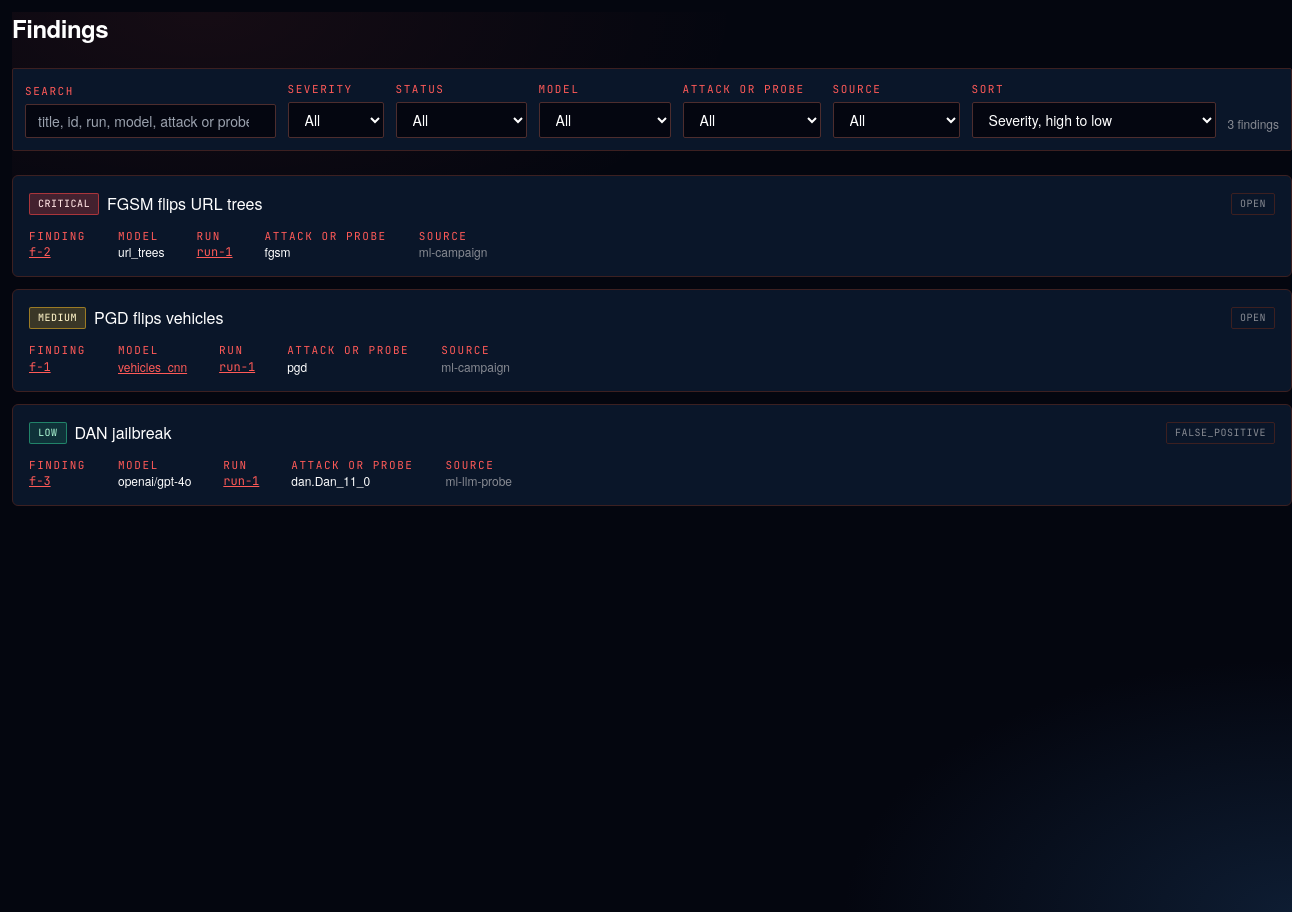
Test: FindingsPage › orders by severity by default and filters by status, model, attack and text
The image size is (1292, 912).
Expected: the text with test id "findings-count" reads "3 findings", [1228, 116, 1279, 132]
Select "false_positive" in the dropdown labelled "status": (461, 120) [396, 102, 527, 138]
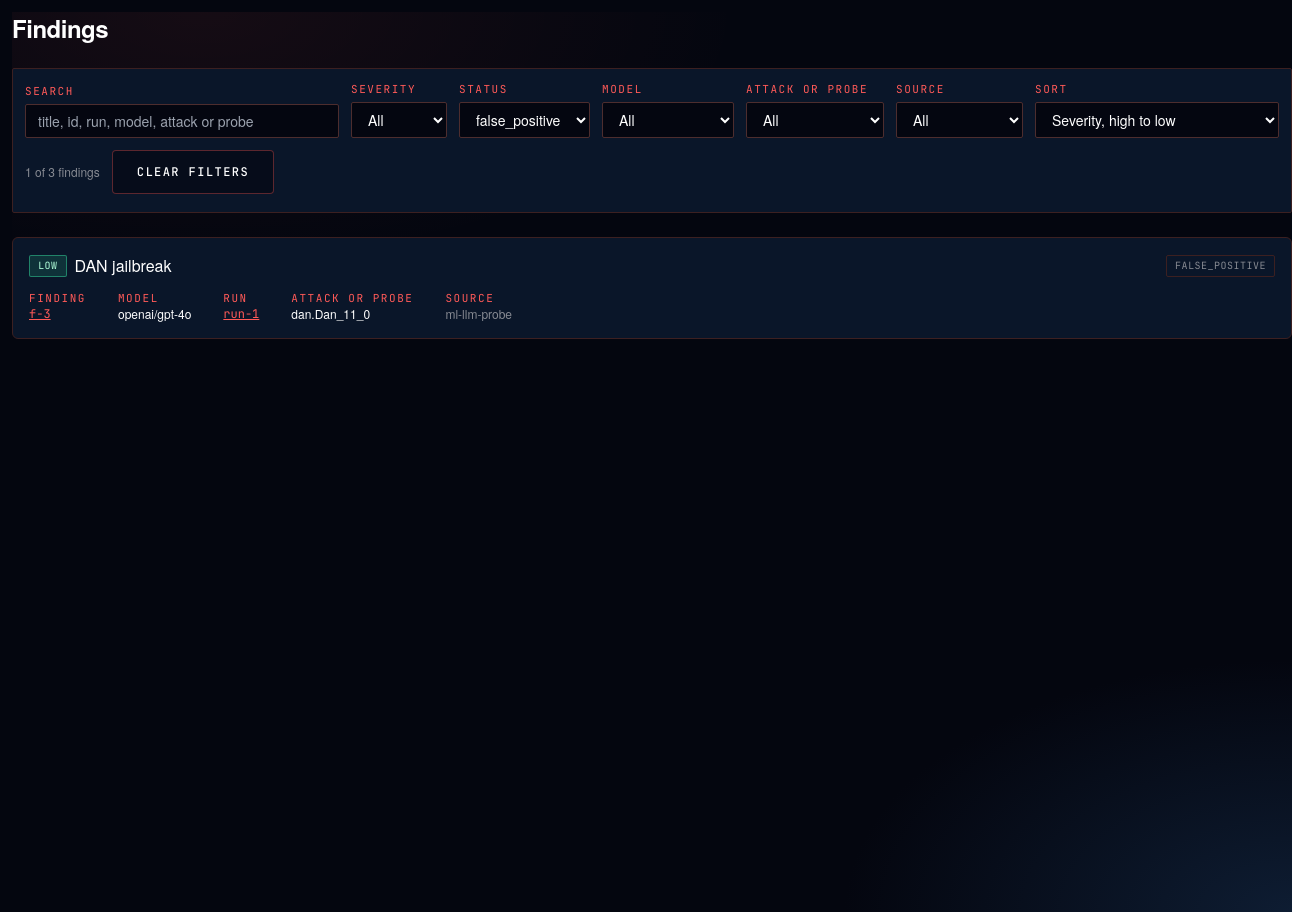
Result: the text with test id "findings-count" reads "1 of 3 findings" at [25, 164, 100, 180]
Click the button "Clear filters": (193, 172) [112, 150, 274, 194]
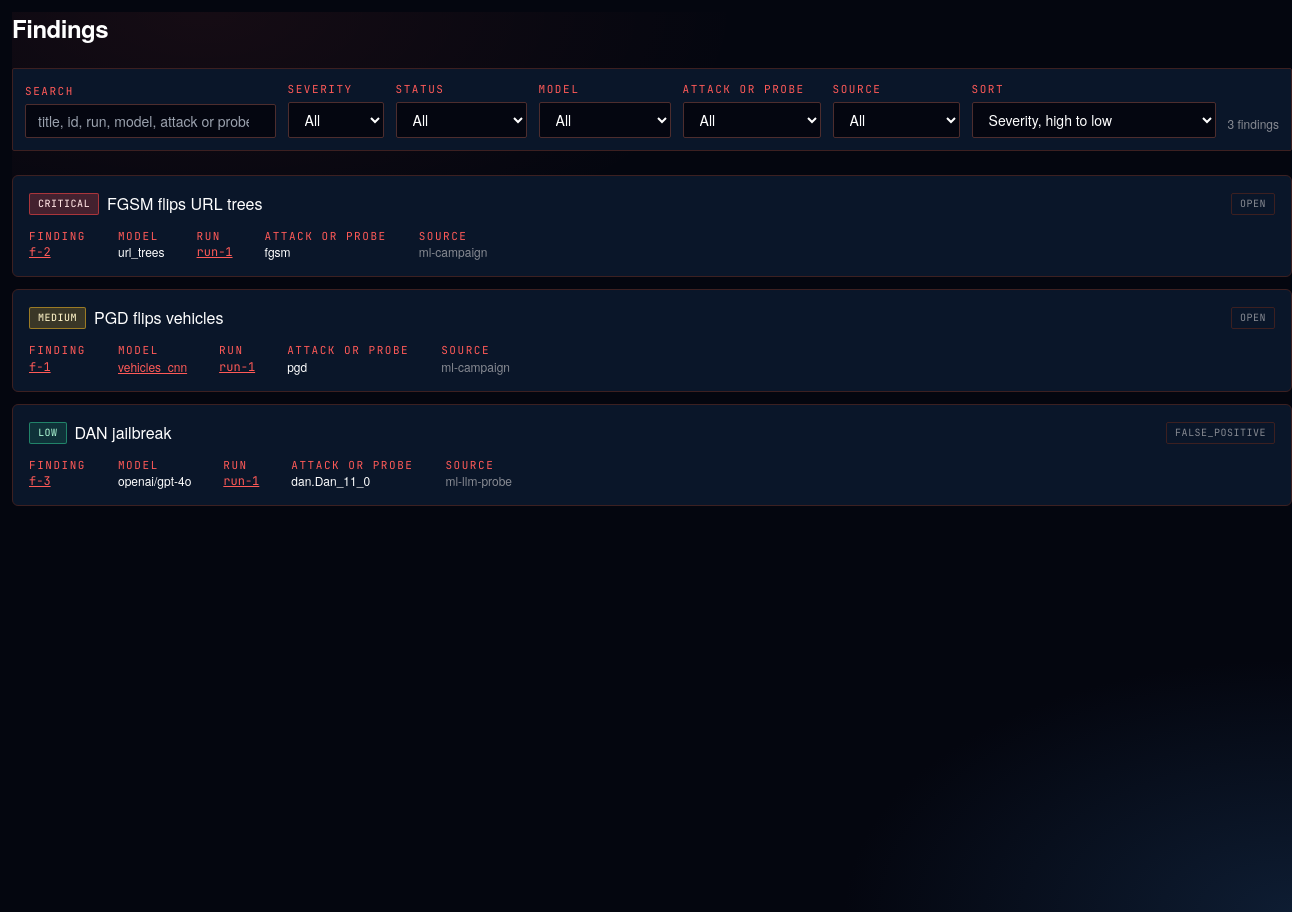
Select "url_trees" in the dropdown labelled "model": (605, 120) [539, 102, 671, 138]
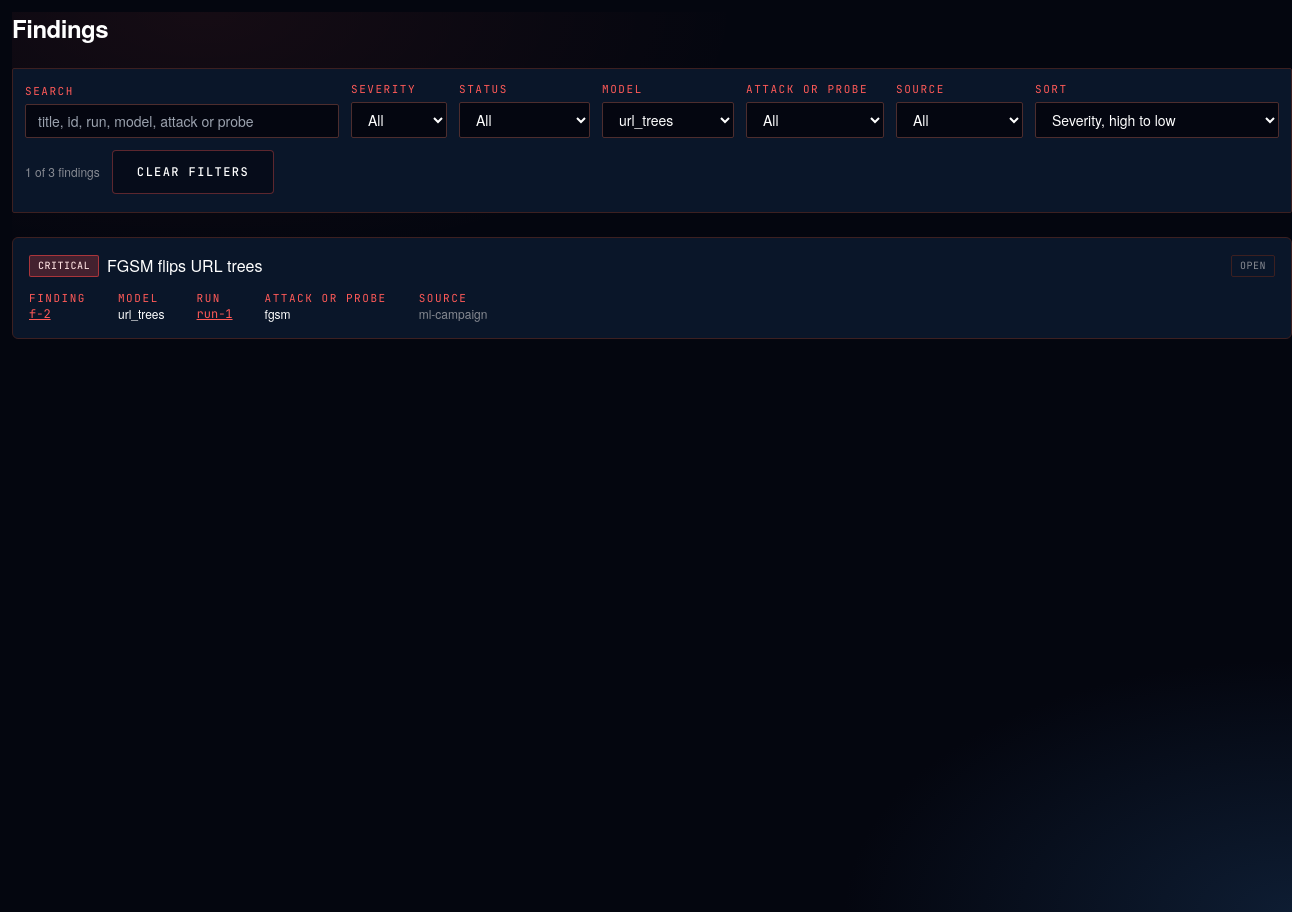
Click the button "Clear filters": (193, 172) [112, 150, 274, 194]
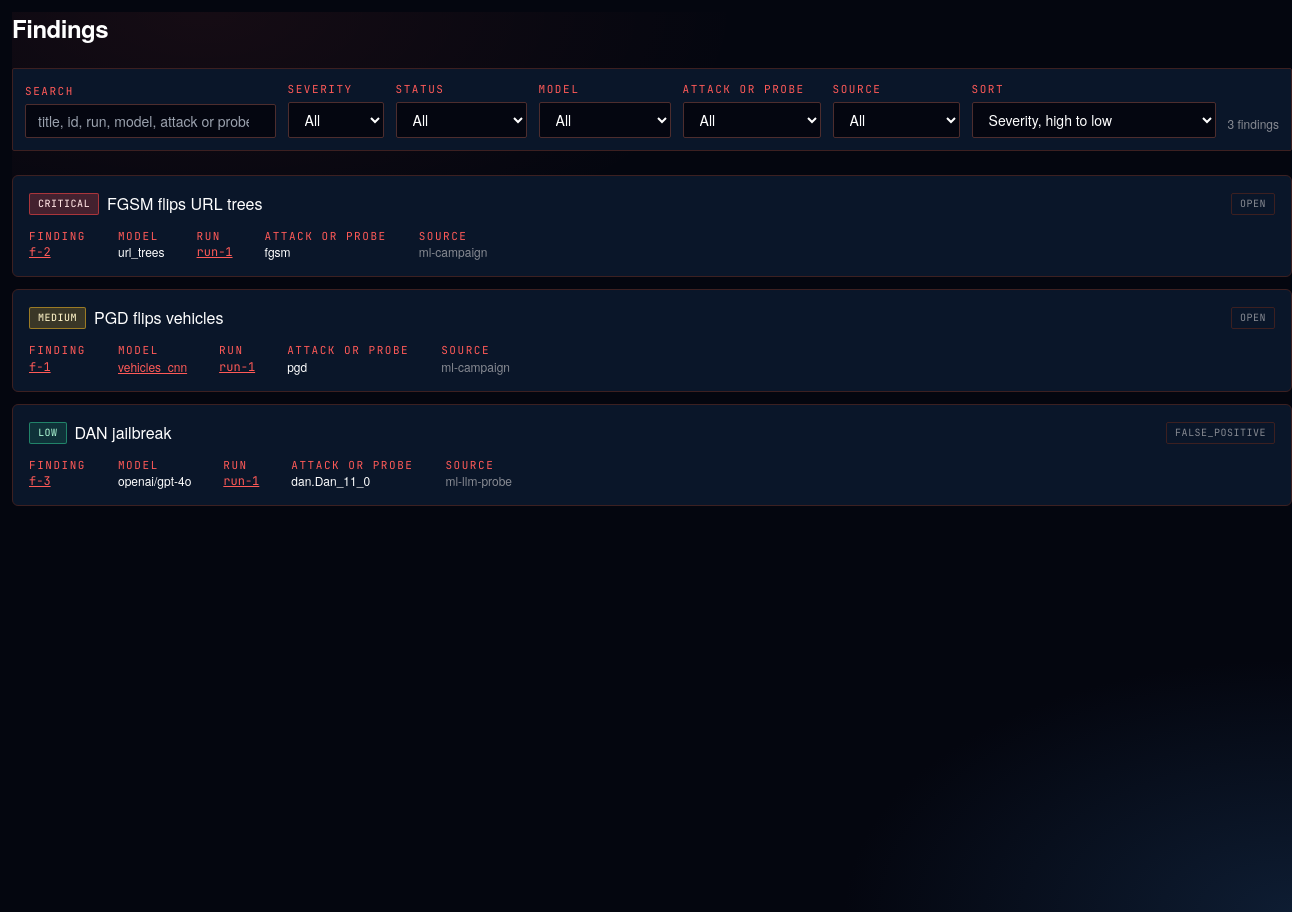
Select "dan.Dan_11_0" in the dropdown labelled "attack or probe": (752, 120) [683, 102, 821, 138]
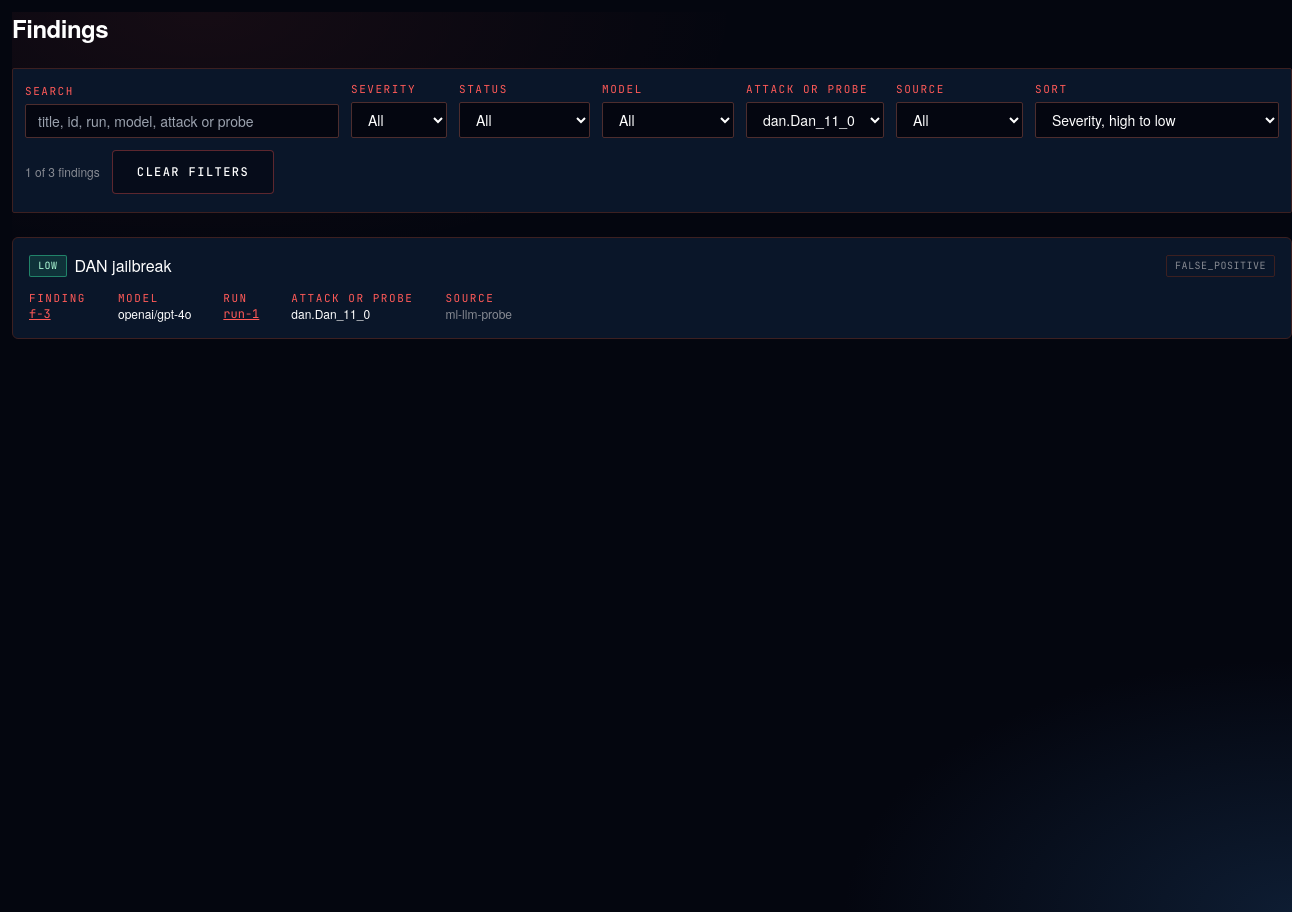
In the search field labelled "search": (182, 120) [25, 104, 339, 138], type "vehicles"
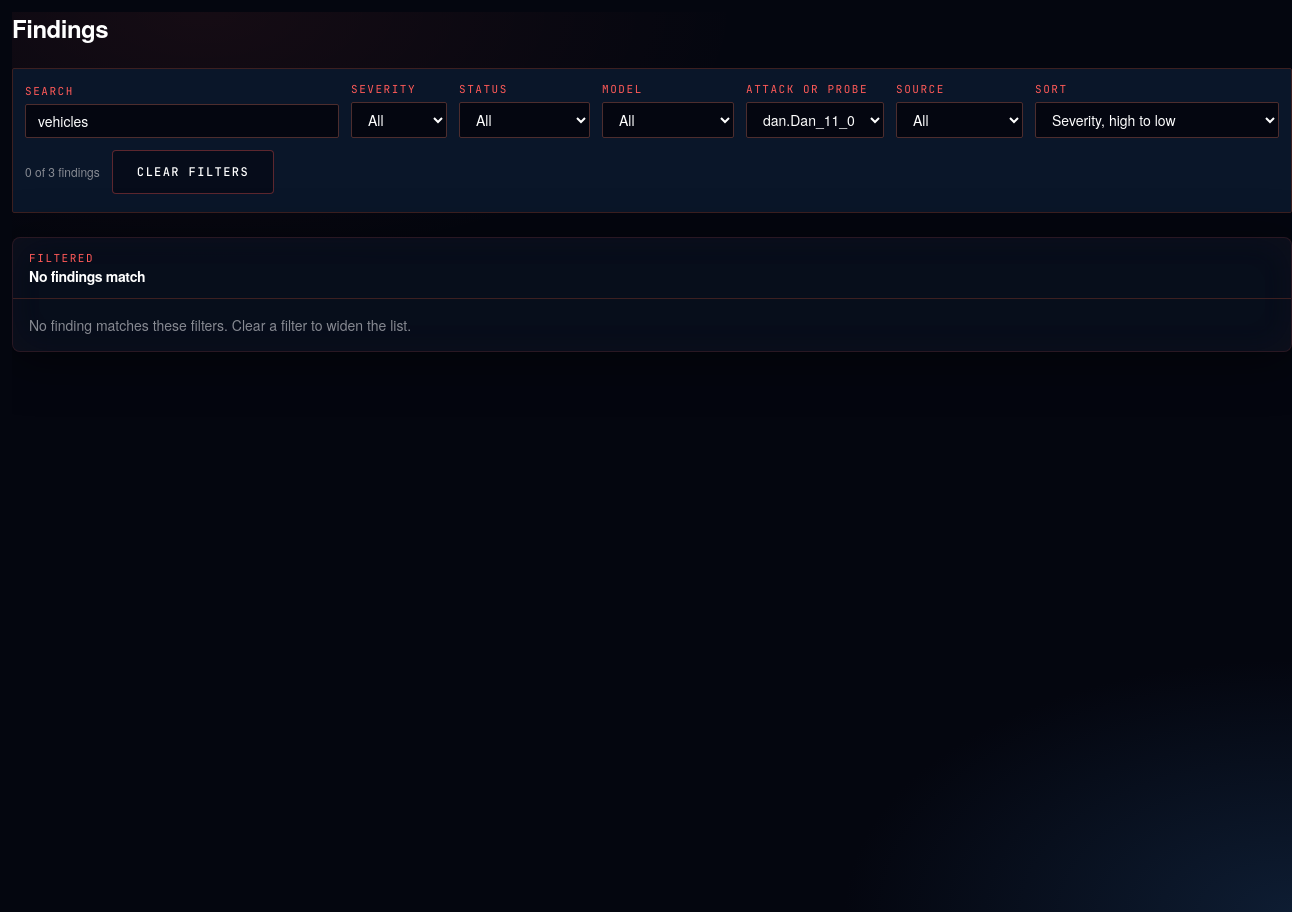
Result: no list items are shown
Result: the heading "No findings match" is shown at [29, 266, 145, 286]
